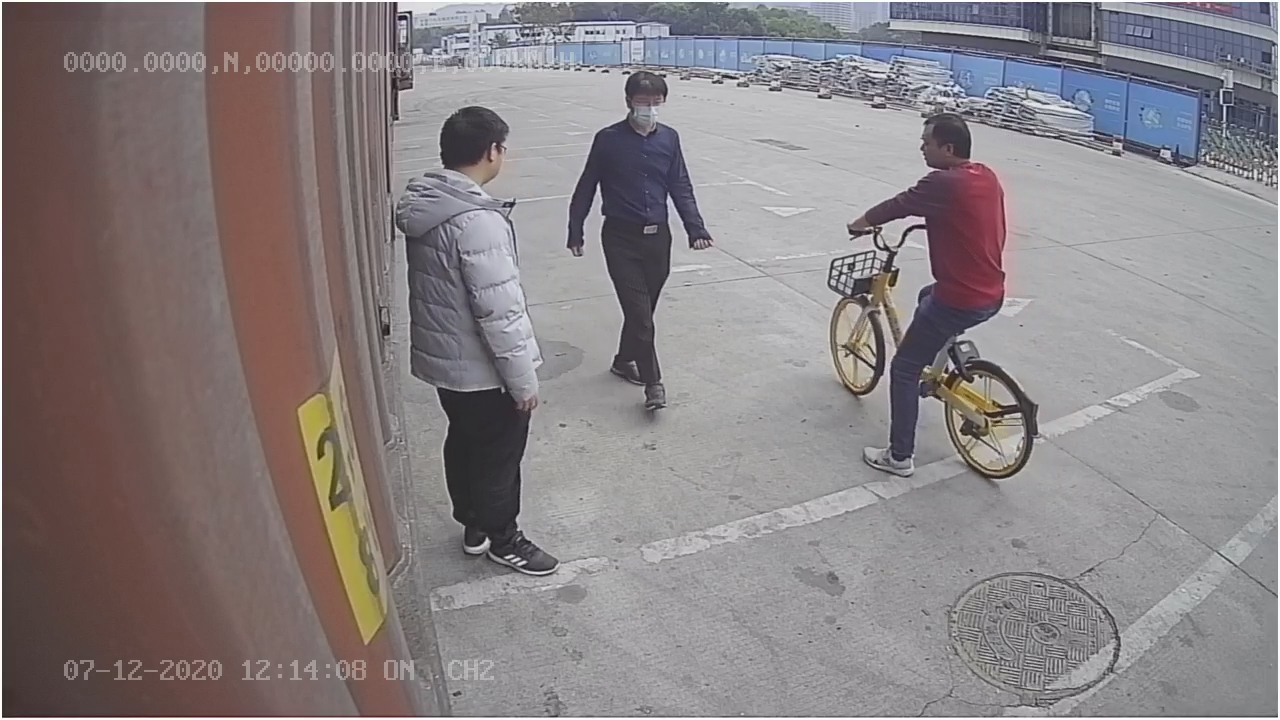person: (565, 62, 716, 411)
